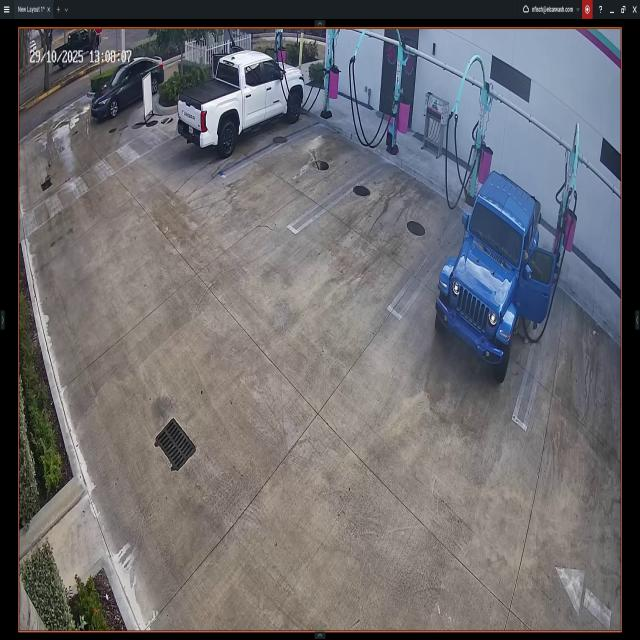Car: (434, 168, 557, 380), (180, 54, 304, 152), (89, 55, 164, 118)
